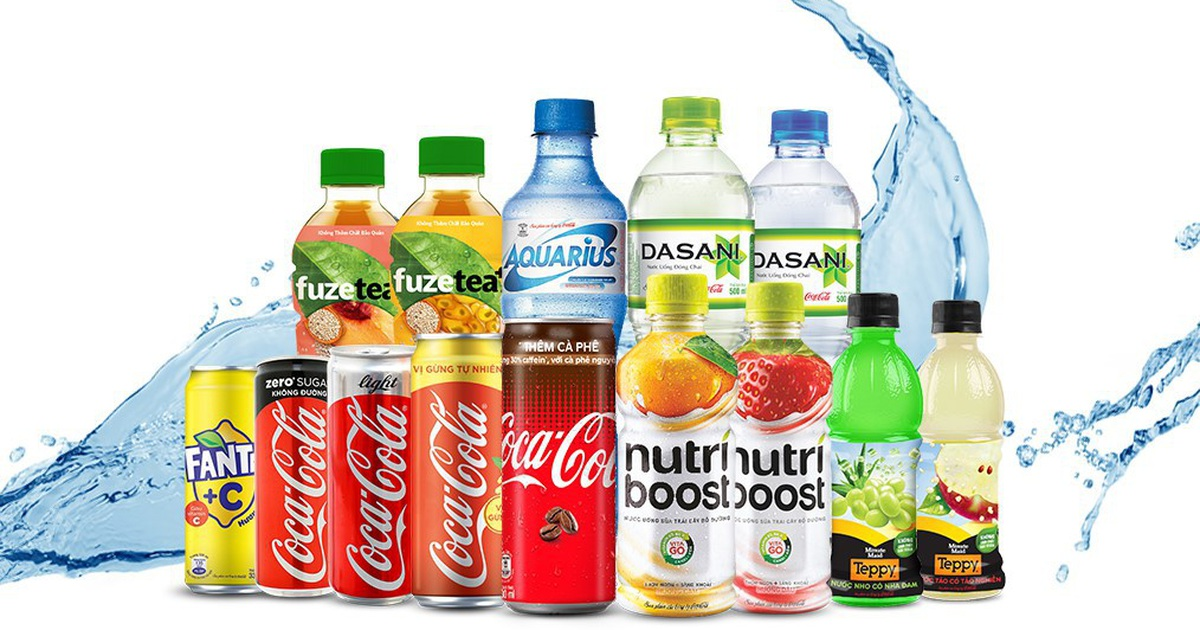aquarius: (505, 242, 616, 272)
cocacola: (422, 385, 491, 589), (342, 397, 411, 590), (269, 401, 329, 584), (502, 409, 616, 497)
dasani: (641, 236, 746, 277), (754, 246, 850, 287)
fanta: (186, 442, 256, 481)
fuzetea: (394, 265, 498, 298), (294, 271, 392, 304)
minutemaid: (862, 543, 888, 560), (946, 541, 971, 556)
nutriboost: (622, 440, 730, 512), (734, 443, 829, 514)
